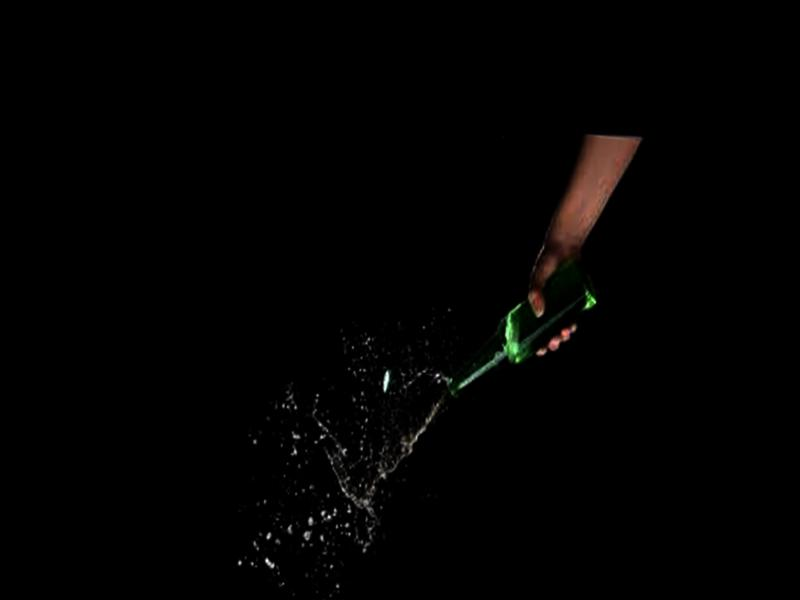Beer: (445, 243, 604, 408)
